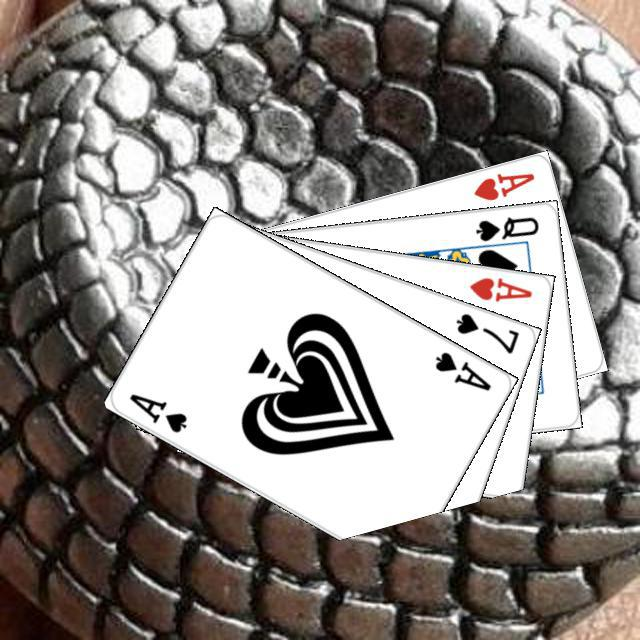7s: (450, 308, 521, 356)
Ah: (468, 168, 536, 203), (464, 272, 534, 303)
As: (124, 388, 189, 435), (430, 346, 493, 393)
Qs: (471, 211, 540, 243)
